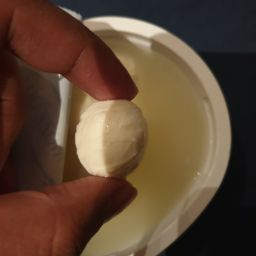Mini Mozzarella Cheese: (70, 92, 160, 182)
